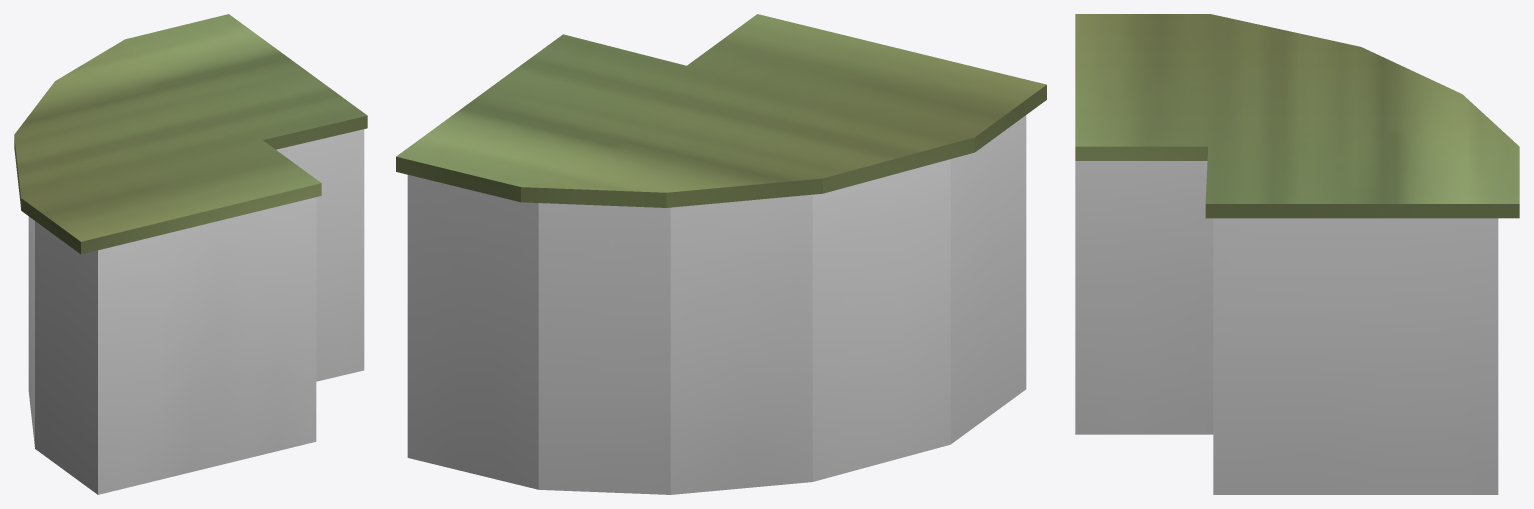
The model's file is sm_worktop_corner_007x01x01_a.fbx.
The picture shows the model from 3 angles, left to right: view 1: azimuth 30°, elevation 25°; view 2: azimuth 150°, elevation 25°; view 3: azimuth 270°, elevation 25°; orthographic projection. The views are drawn at different scales.
Parts seen in each view (by area): view 1: sm_worktop_corner_007x01x01_a; view 2: sm_worktop_corner_007x01x01_a; view 3: sm_worktop_corner_007x01x01_a.
Boxes of the visible parts, left/top/right/bottom form: sm_worktop_corner_007x01x01_a: left=14, top=14, right=367, bottom=494; sm_worktop_corner_007x01x01_a: left=396, top=14, right=1046, bottom=494; sm_worktop_corner_007x01x01_a: left=1075, top=14, right=1519, bottom=494.
Bounding box in the file's own units: 110 × 78.85 × 109.
